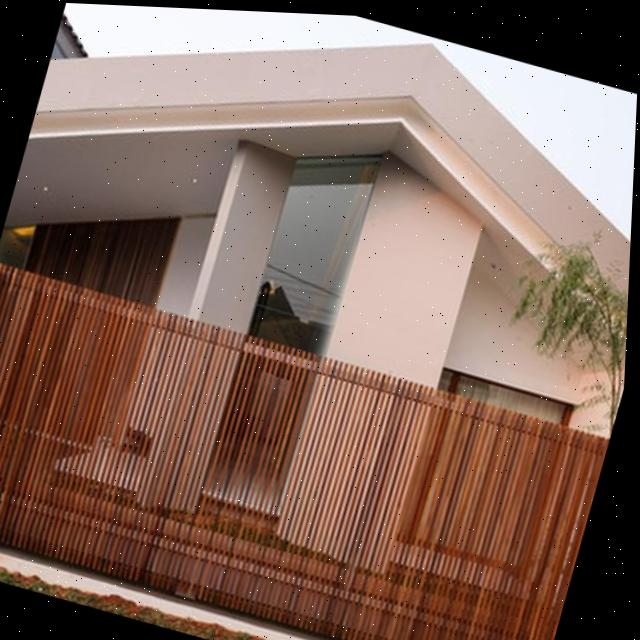building: (0, 1, 640, 440)
